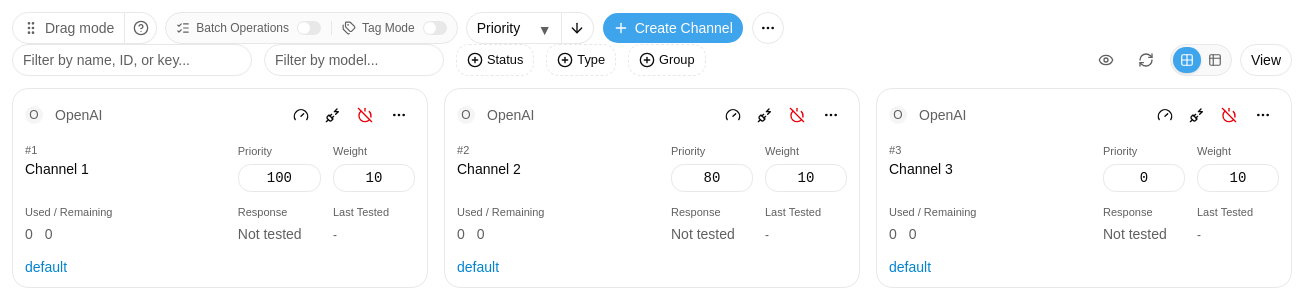
switching sort exits reorder mode without automatically reopening it
Click the button "Drag mode". click: (69, 28)
box: [12,12,125,44]
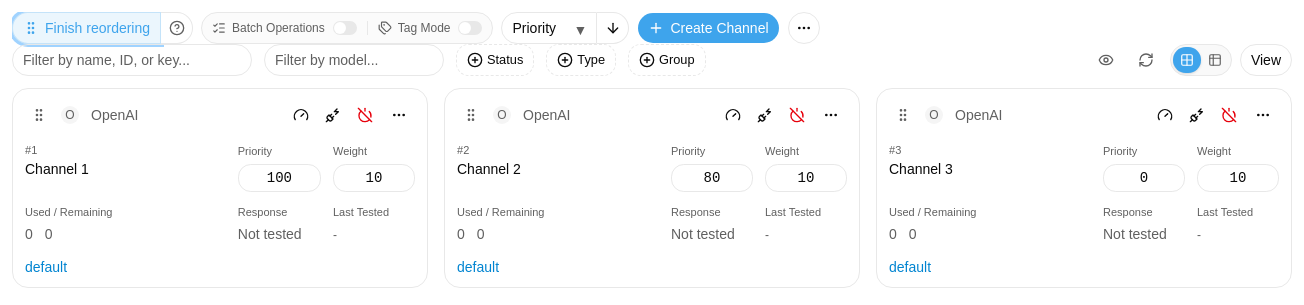
Now the button named "Reorder channel 3" is shown, box [889,101,917,129]
Click the dropdown named "Sort channels by". click: (550, 28)
box: [502,12,598,44]
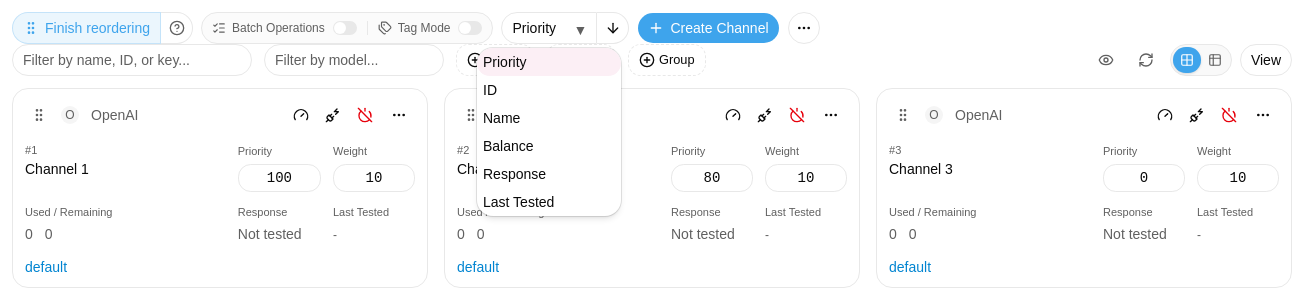
Click the option "ID". click: (490, 90)
box: [483,82,497,98]
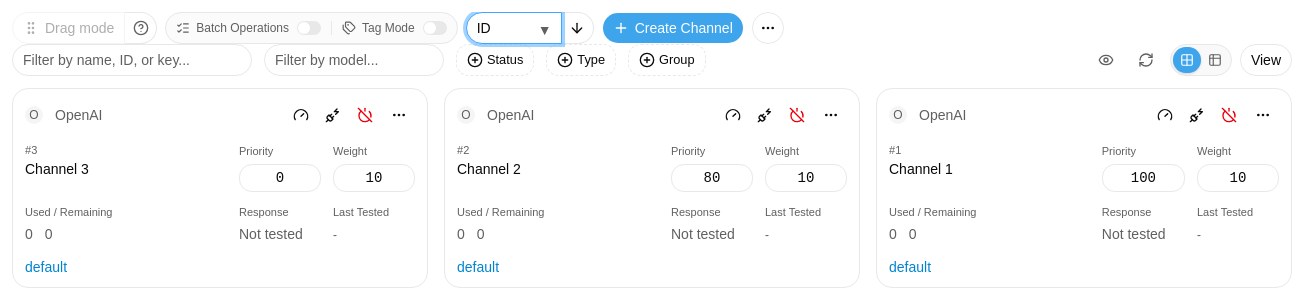
Now the button "Drag mode" is disabled, box [12,12,125,44]
Click the dropdown named "Sort channels by". click: (514, 28)
box: [466,12,562,44]
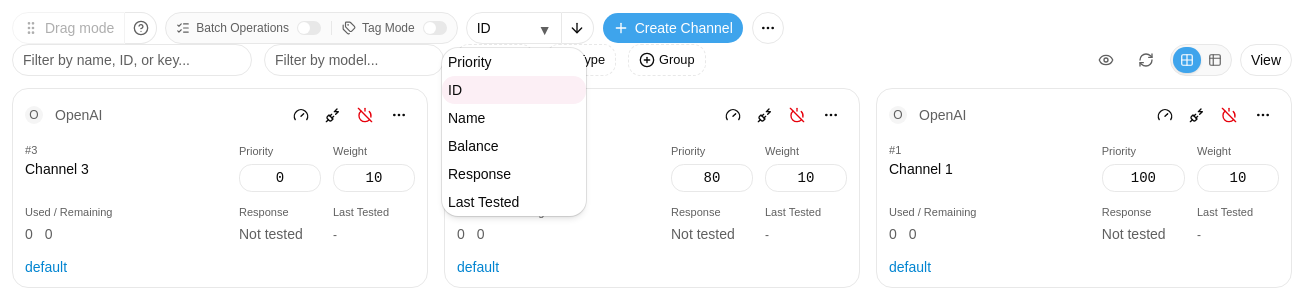
Click the option "Priority". click: (470, 62)
box: [448,54,492,70]
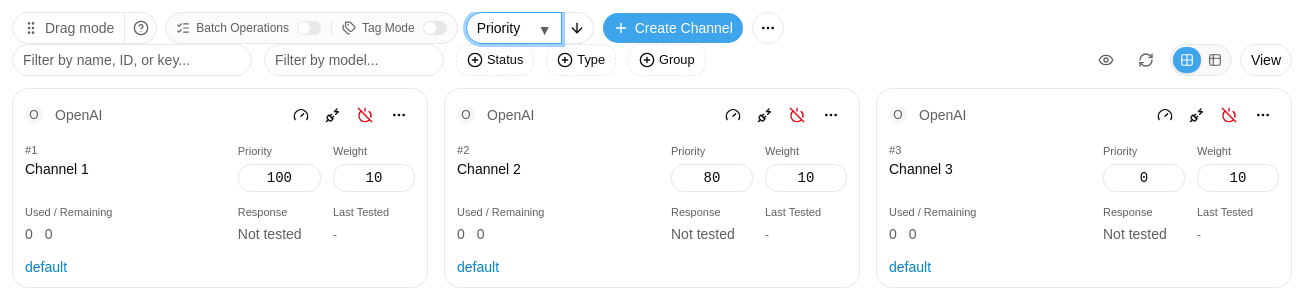
Now the button "Drag mode" is enabled, box [12,12,125,44]
